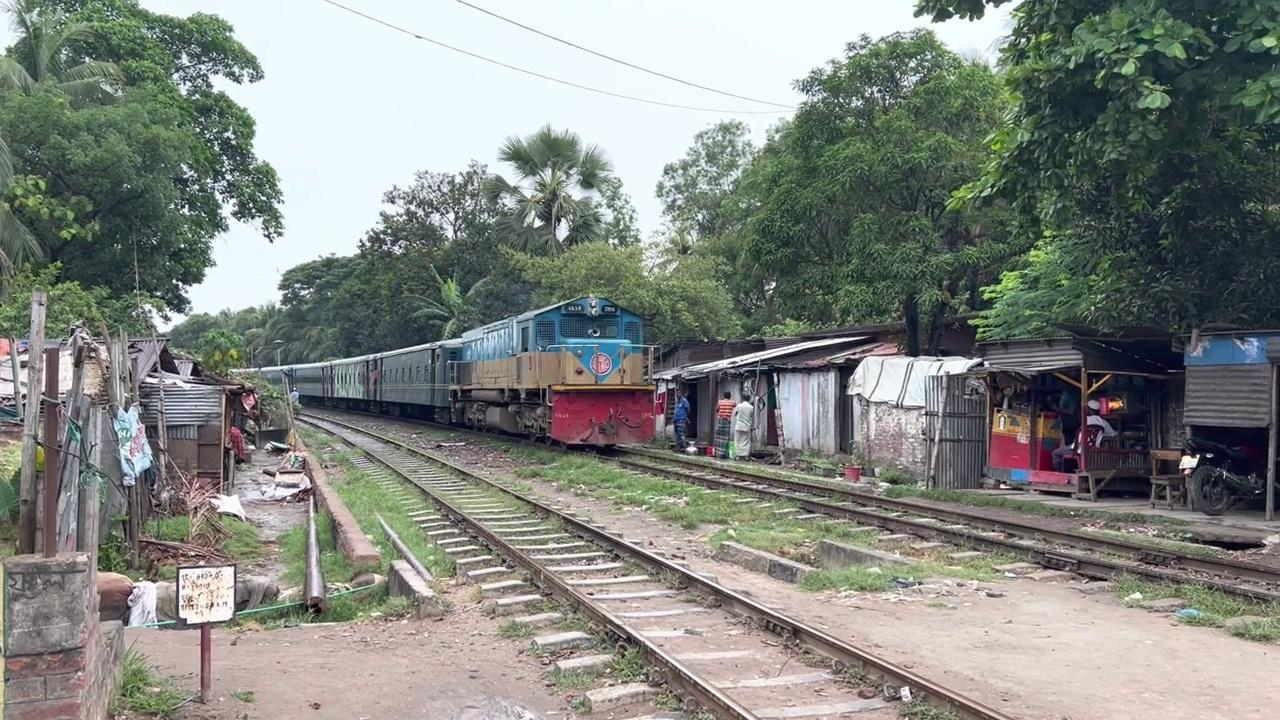Curb: (1178, 436, 1278, 515)
Fence: (731, 392, 754, 461), (671, 384, 691, 450)
Motorcycle: (291, 401, 1013, 718), (593, 440, 1278, 604)
Pothole: (175, 563, 236, 625)
Potted-plant: (235, 293, 660, 450)
Railroad-crossing: (720, 26, 1032, 356), (481, 122, 616, 259)
